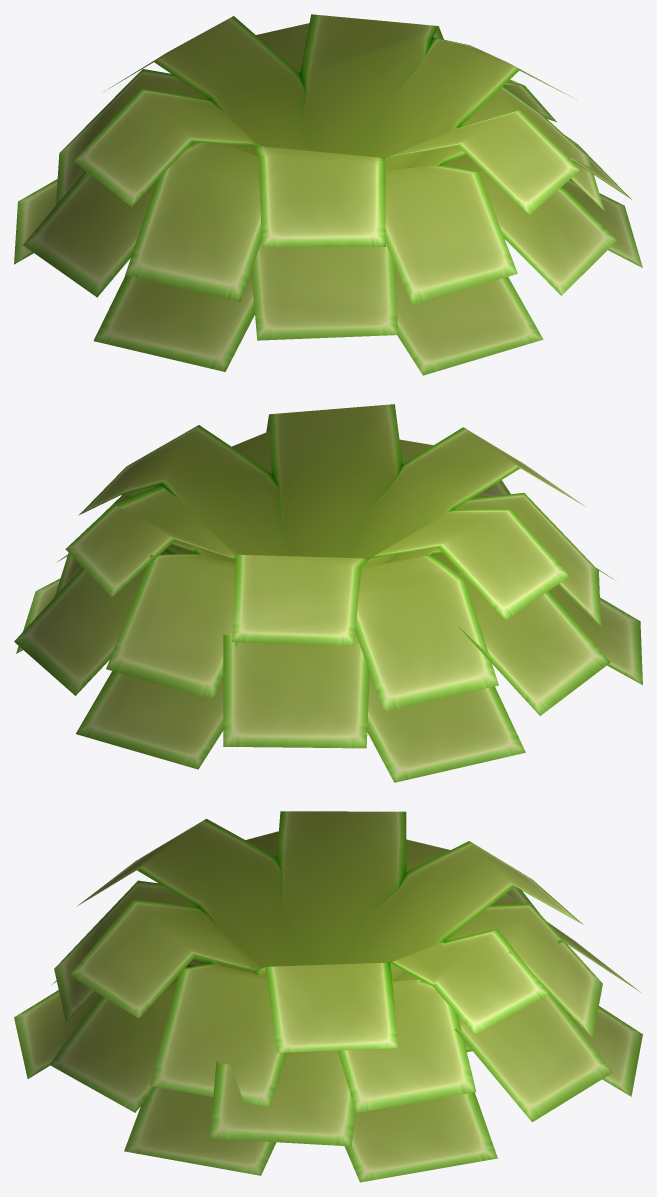
The model's file is SM_Plant_01_B.fbx.
3 renders of one model, top to bottom at view 1: azimuth 30°, elevation 25°; view 2: azimuth 150°, elevation 25°; view 3: azimuth 270°, elevation 25°, orthographic.
Parts seen in each view (by area): view 1: polySurface628; view 2: polySurface628; view 3: polySurface628.
Part boxes in pixels (x1,y1,x2,y2): polySurface628: (14, 14, 642, 375); polySurface628: (14, 404, 642, 782); polySurface628: (14, 811, 642, 1182).
Size of the model in its own units: 82.29 by 27.65 by 81.5.
